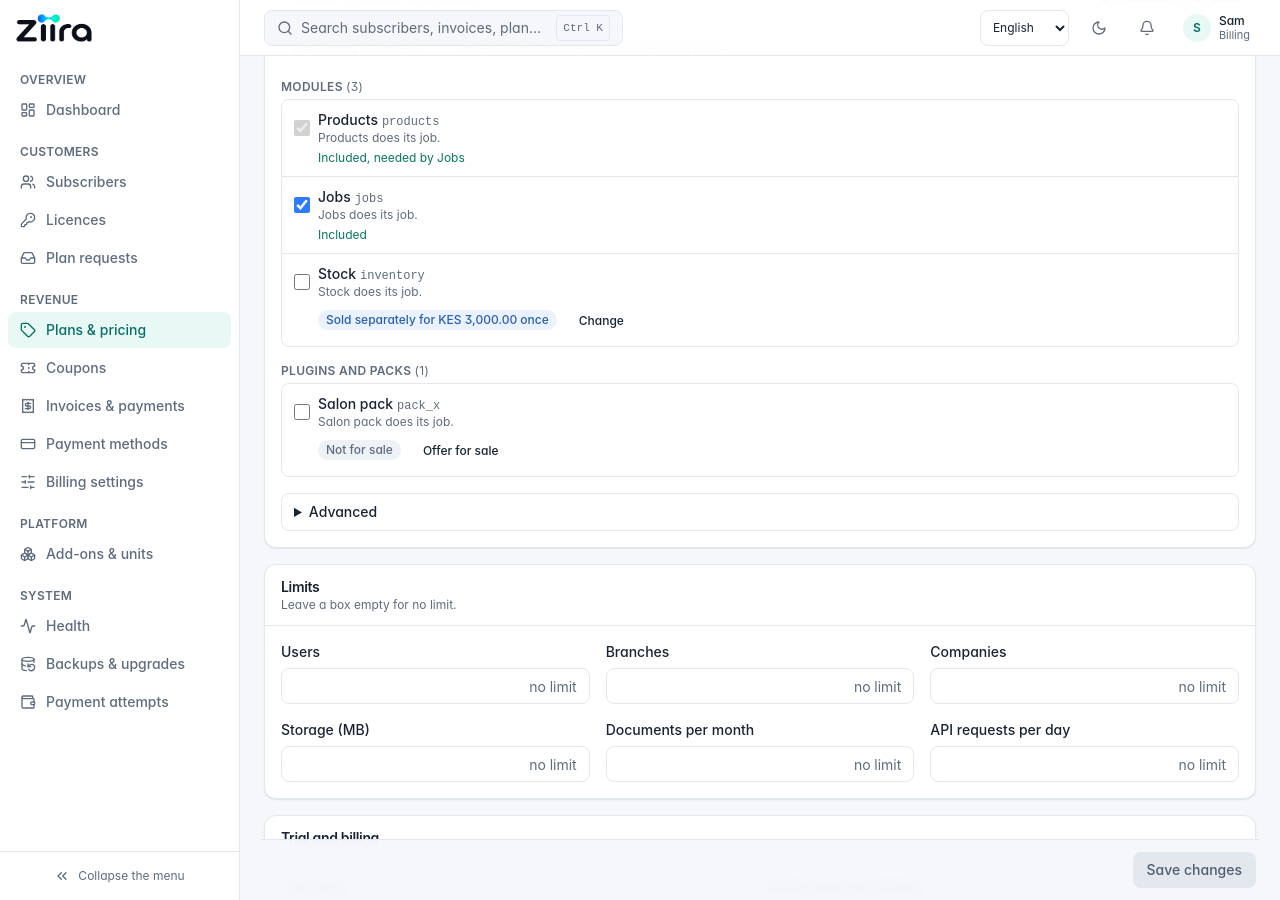
selling a unit that is not ticked › will not save an offer with no price
(page scrolled)
Expected: the text "Stock" is shown, [318, 265, 356, 282]
Click the button "Offer for sale". click: (461, 450)
box: [413, 434, 509, 466]
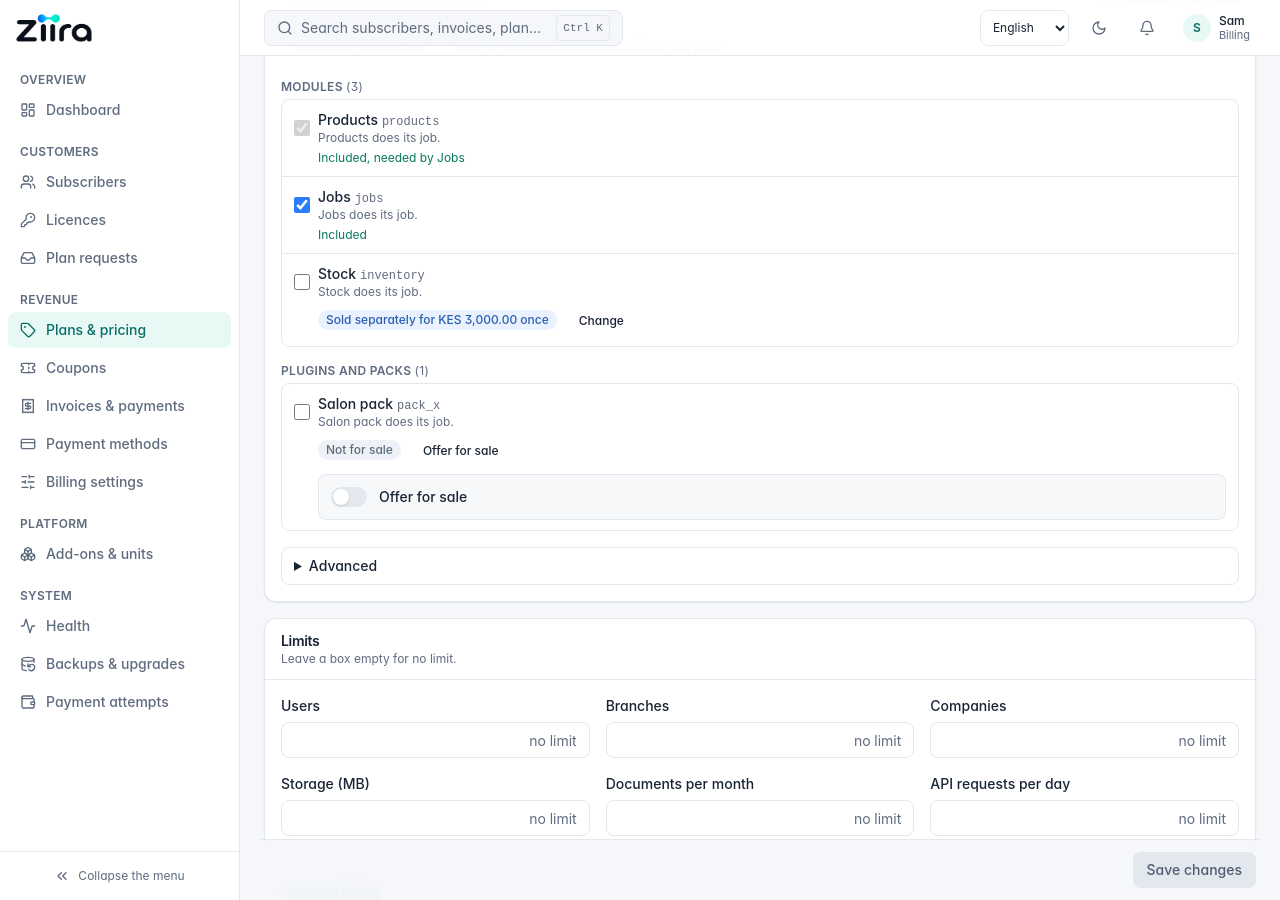
Click the switch named "Offer Salon pack for sale". click: (349, 497)
box: [331, 487, 367, 507]
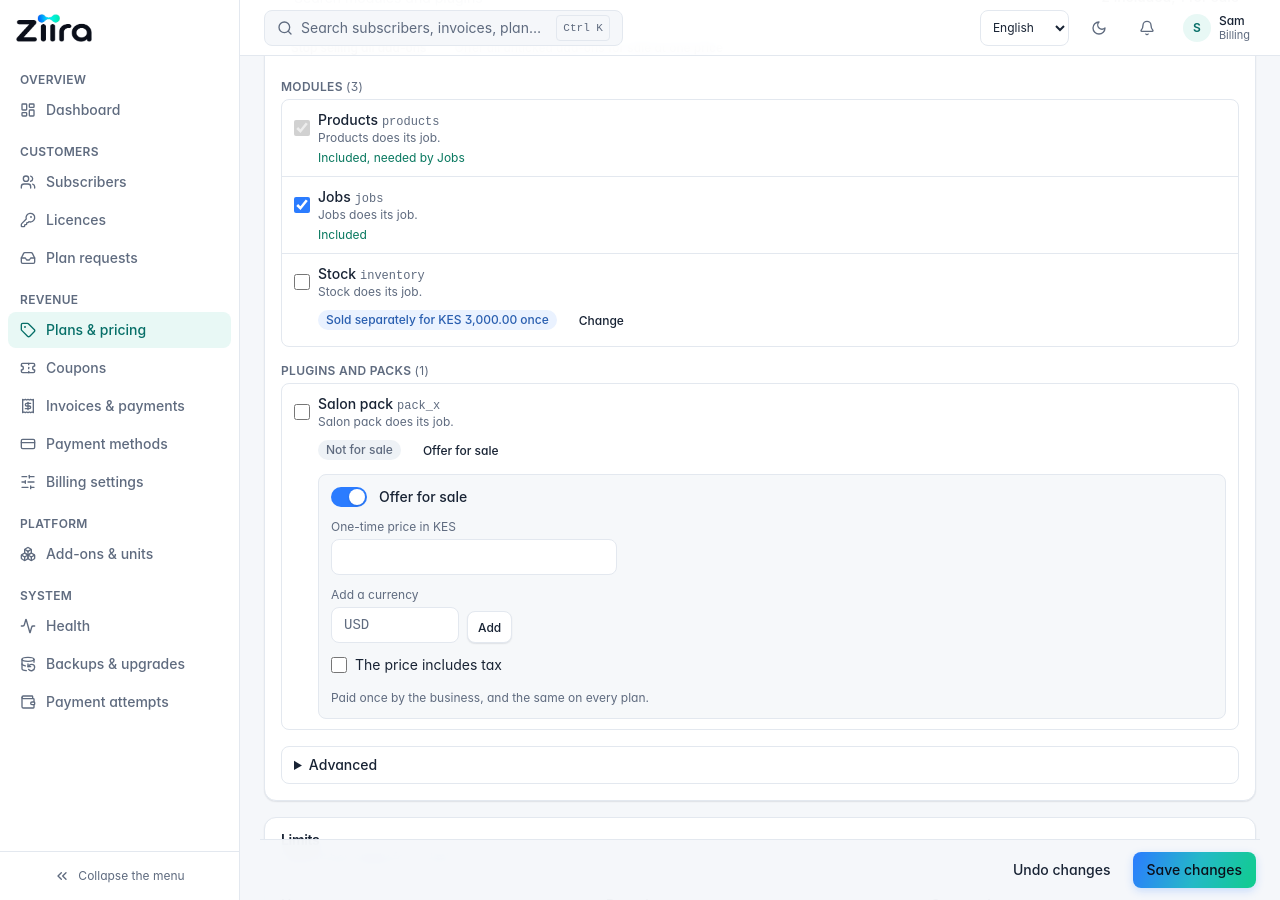
Click the button "Save changes". click: (1194, 870)
box: [1132, 852, 1256, 888]
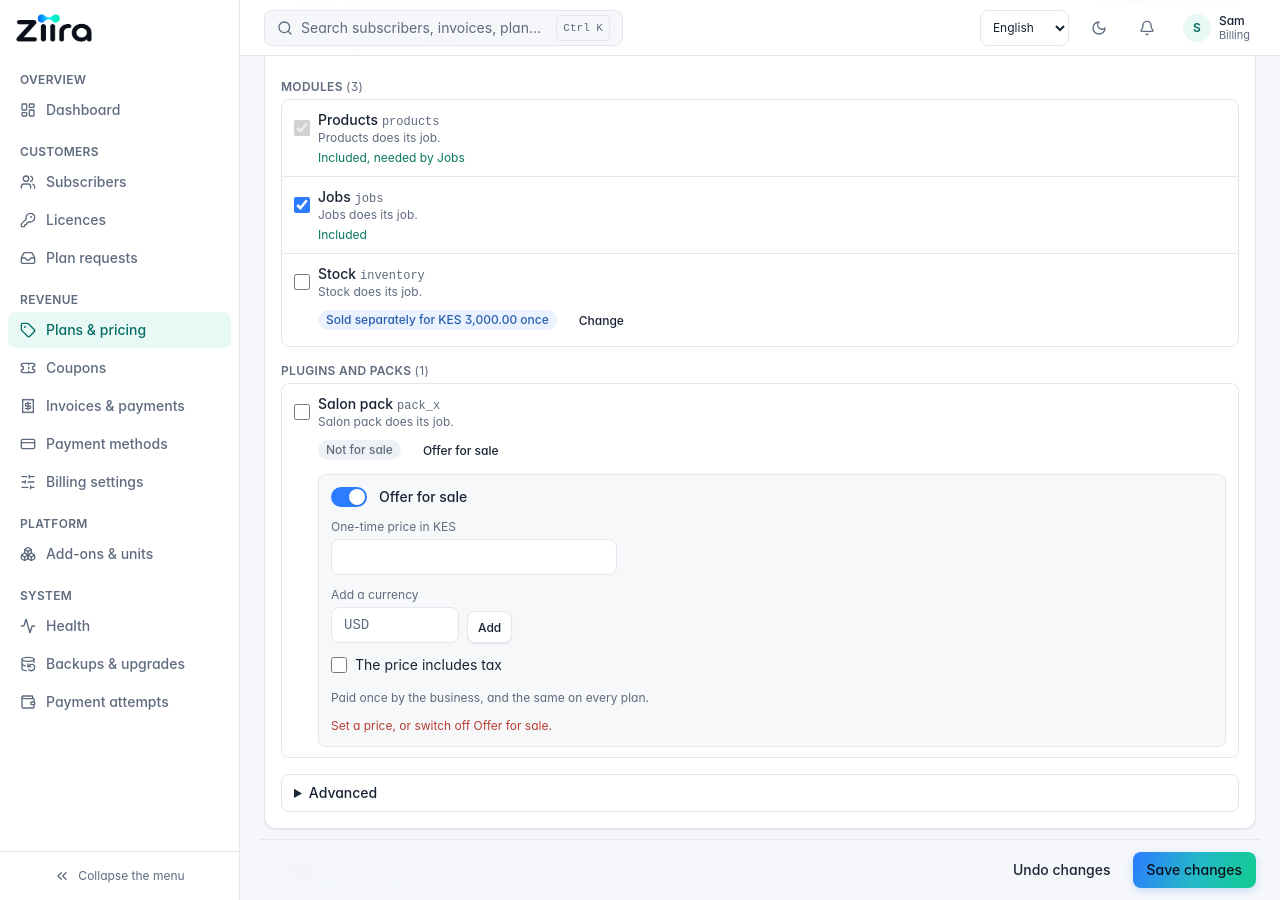
Now the text "Set a price, or switch off Offer for sale." is shown, box [331, 718, 552, 733]
